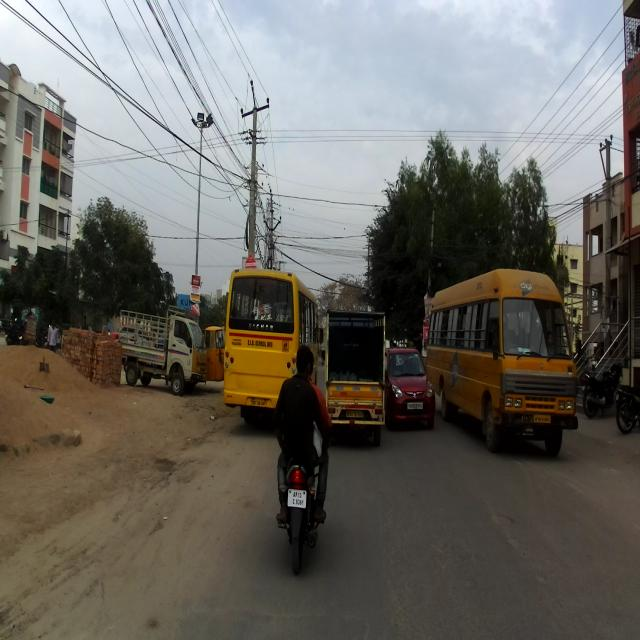bus ahead at: (434, 267, 578, 453), (227, 265, 297, 411)
car ahead at: (386, 348, 433, 422)
motorcycle ahead at: (274, 454, 330, 570)
truck ahead at: (320, 307, 388, 441), (116, 305, 204, 394)
